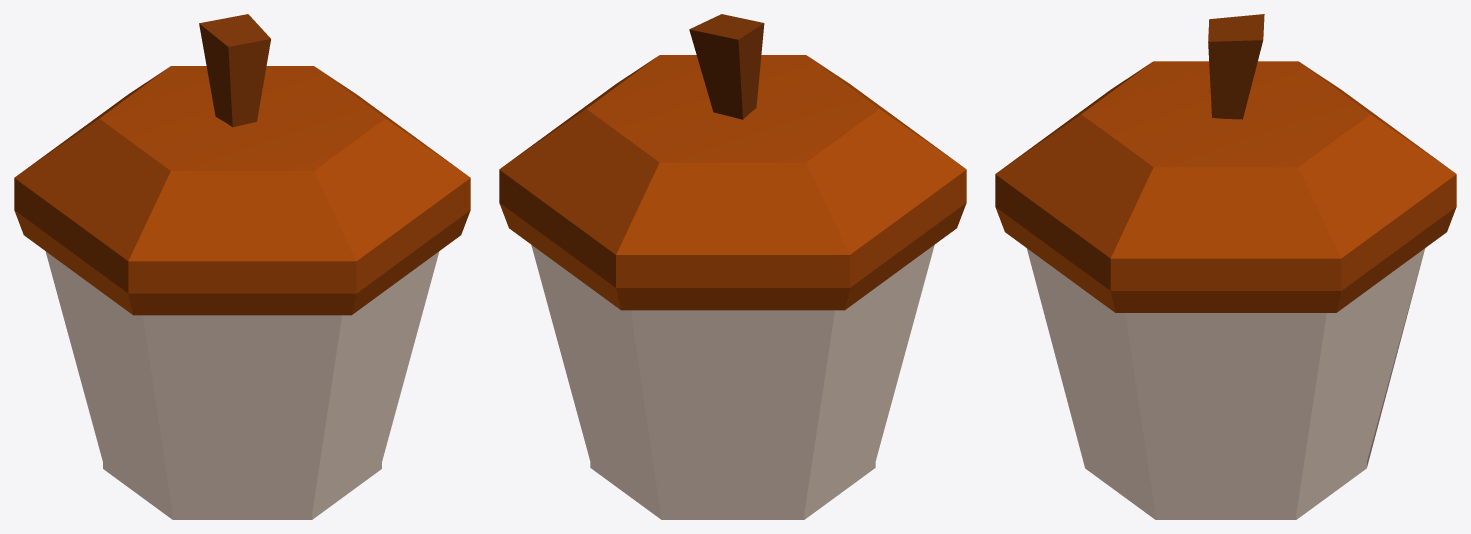
File: noz.fbx
3 renders of one model, left to right at view 1: azimuth 30°, elevation 25°; view 2: azimuth 150°, elevation 25°; view 3: azimuth 270°, elevation 25°, orthographic. The views are drawn at different scales.
Visible parts, largest first — view 1: Sphere, Cube; view 2: Sphere, Cube; view 3: Sphere, Cube.
Boxes of the visible parts, x1,y1,x2,y2 form: Sphere: [14, 66, 470, 519]; Cube: [199, 14, 270, 127]; Sphere: [499, 55, 966, 519]; Cube: [689, 14, 764, 119]; Sphere: [995, 61, 1456, 519]; Cube: [1208, 14, 1264, 119].
Size of the model in its own units: 18.42 by 22.5 by 21.27.
Materials: 2 (2 with a texture image).
